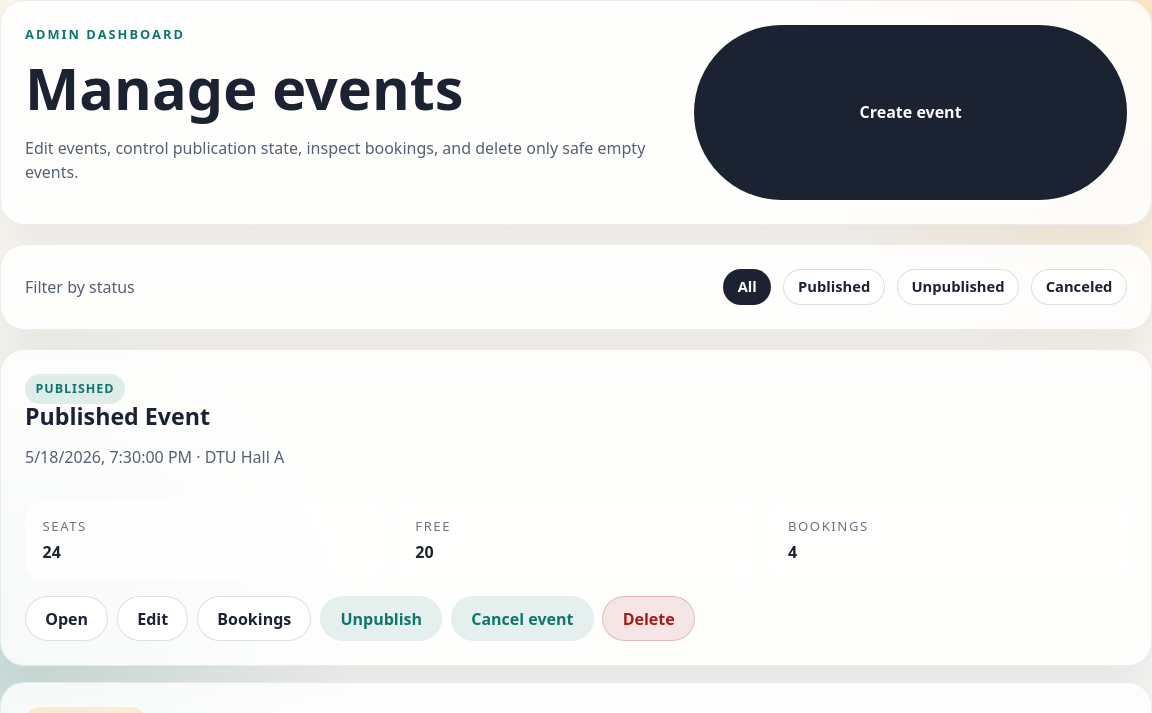
Test: AdminEventsPage › confirms destructive actions before cancelling or deleting events
Step 1. Click the button "Cancel event" → (522, 619), box [451, 596, 594, 641]
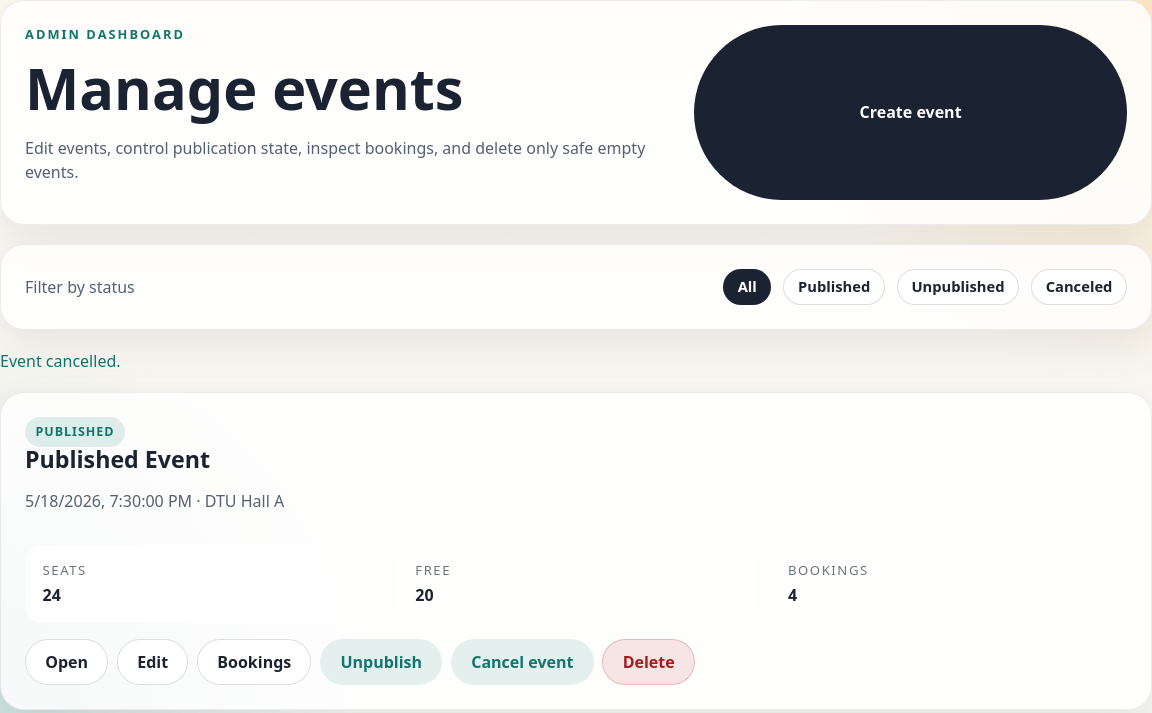
Expected: the text "Event cancelled." is shown, [0, 350, 120, 372]
